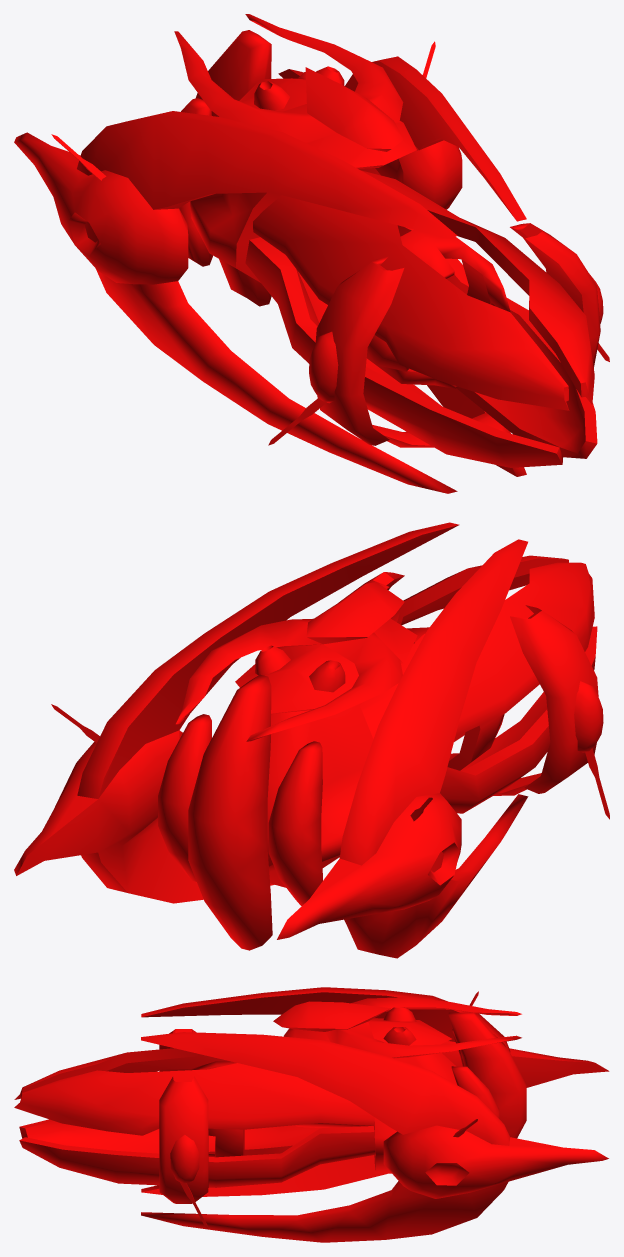
Rendered from CarrierModel.fbx.
3 renders of one model, top to bottom at view 1: azimuth 30°, elevation 25°; view 2: azimuth 150°, elevation 25°; view 3: azimuth 270°, elevation 25°, orthographic. The views are drawn at different scales.
Visible parts, largest first — view 1: Mesh; view 2: Mesh; view 3: Mesh.
Part boxes in pixels (x1,y1,x2,y2): Mesh: (14,14,609,493); Mesh: (14,522,609,958); Mesh: (14,987,609,1242).
Bounding box in the file's own units: 248 × 192 × 488.
